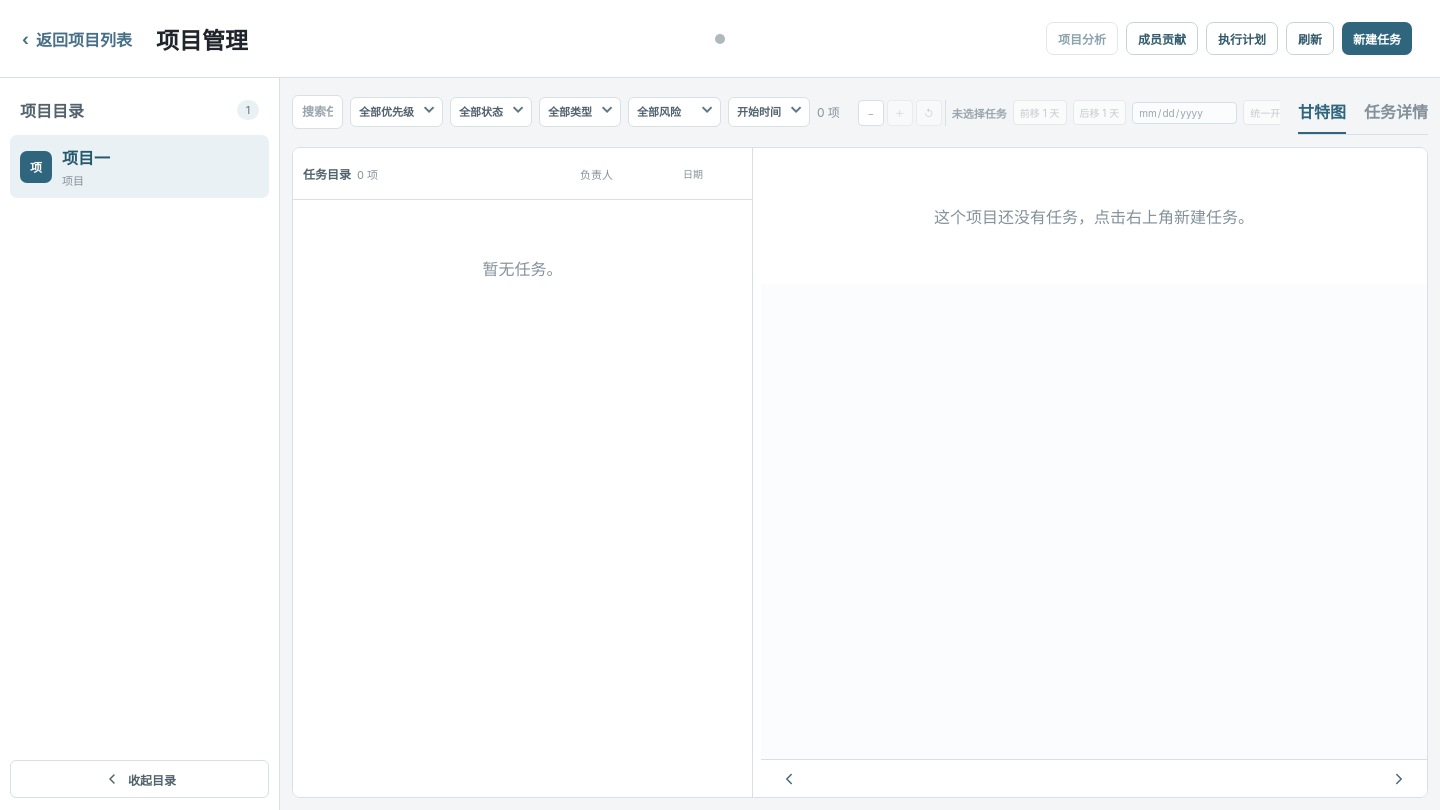
Test case: web app › splits contribution when a task changes owner mid-progress
The image size is (1440, 810).
What coordinates should you click on to do the following:
click the button "成员贡献"
I would click on:
 (1162, 38)
Its box is [1126, 22, 1198, 55].
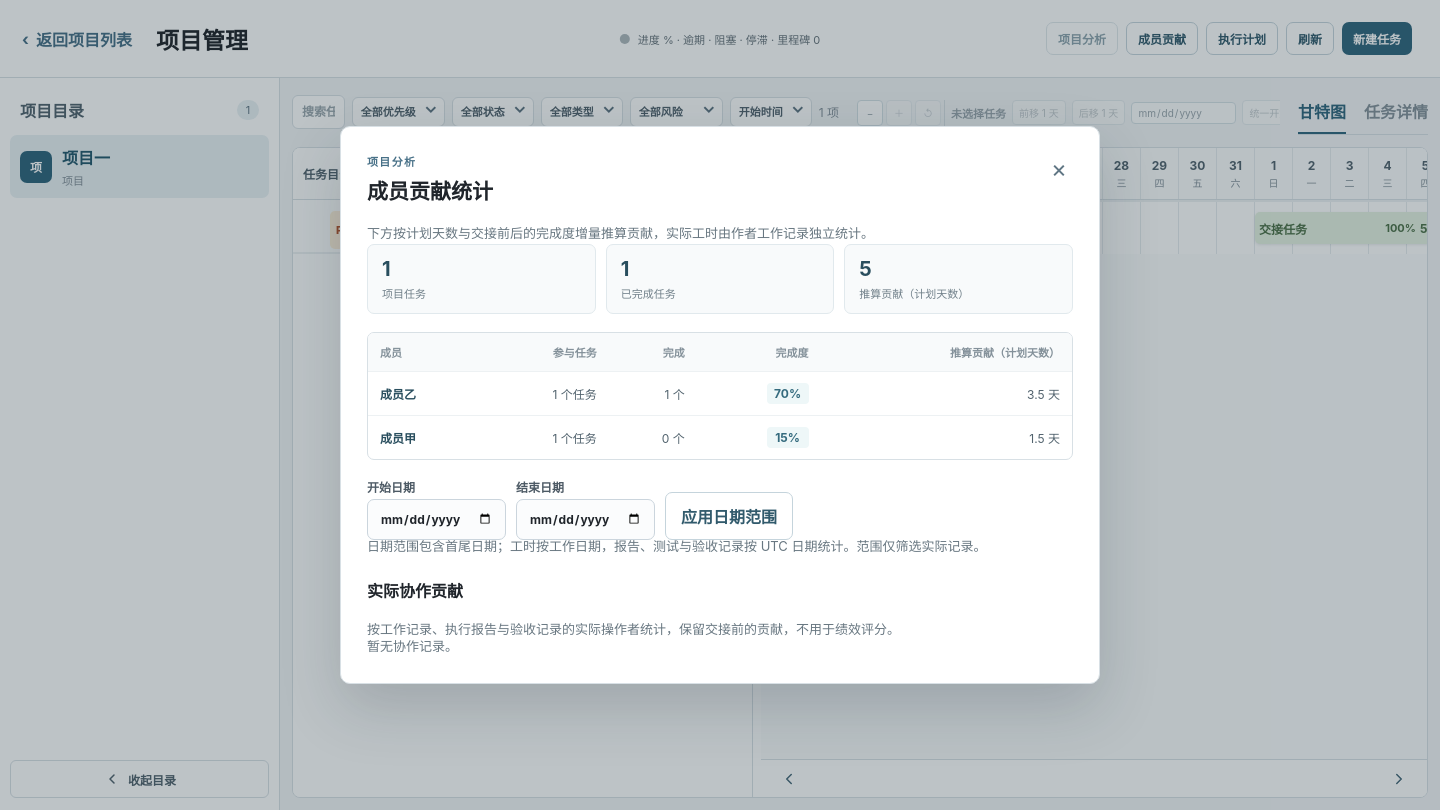
Expected: the text "成员甲" is shown, [380, 431, 416, 446]
Expected: the text "成员乙" is shown, [380, 387, 416, 402]
Expected: the text "1.5 天" is shown, [821, 415, 1072, 459]
